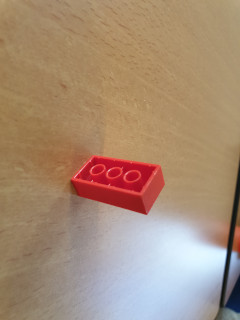2x4 red: (70, 151, 168, 221)
